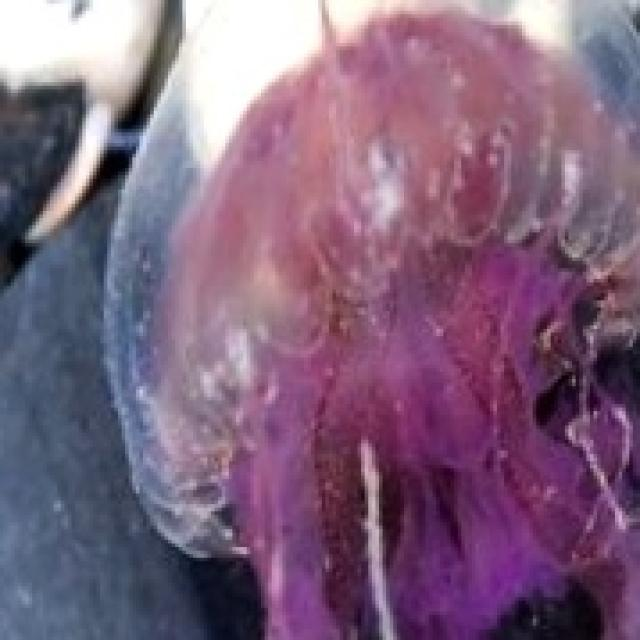Moon-jellyfish: (114, 0, 636, 636)
